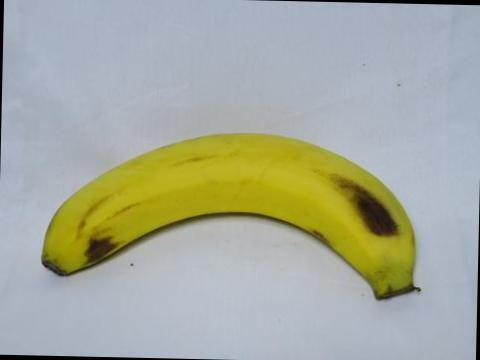freshripe: (29, 117, 427, 312)
